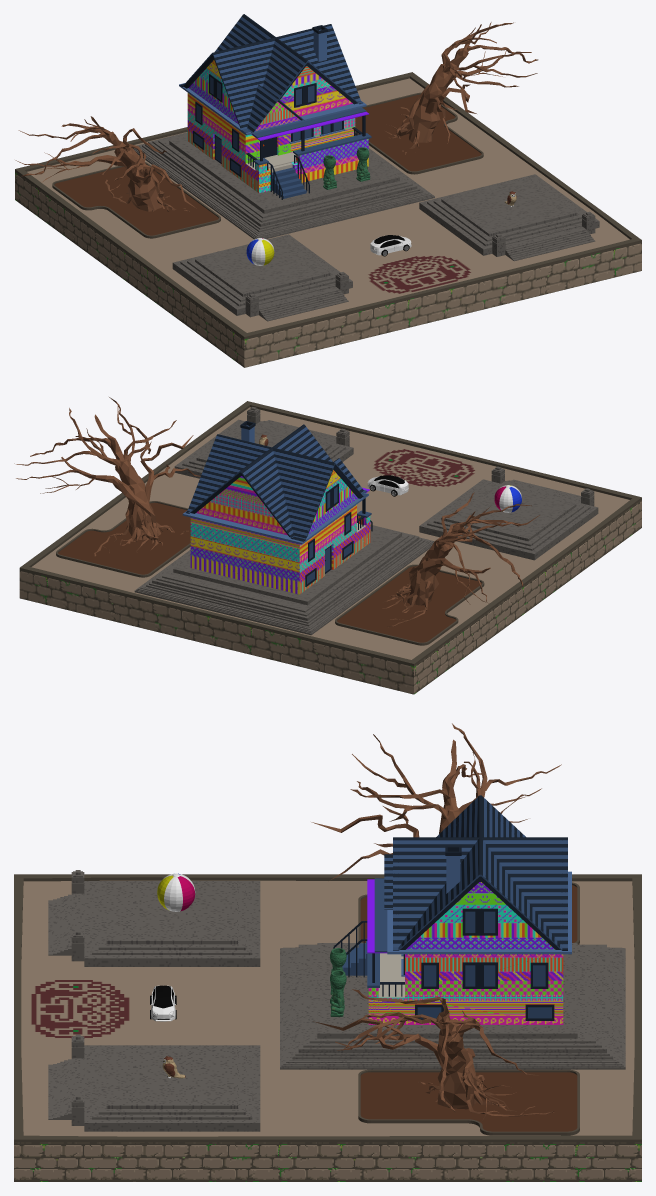
3 views of the same model, one above another, from view 1: azimuth 30°, elevation 25°; view 2: azimuth 150°, elevation 25°; view 3: azimuth 270°, elevation 25° (orthographic). The views are drawn at different scales.
Visible parts, largest first — view 1: Cube.011, Cube.676, VEHICLES_TESLA, OBJRANDOM_BEACHBALL; view 2: Cube.011, Cube.676, VEHICLES_TESLA, OBJRANDOM_BEACHBALL; view 3: Cube.011, Cube.676, OBJRANDOM_BEACHBALL, VEHICLES_TESLA.
Part boxes in pixels (x1,y1,x2,y2): Cube.011: [15, 22, 641, 367]; Cube.676: [179, 14, 371, 199]; VEHICLES_TESLA: [370, 235, 411, 256]; OBJRANDOM_BEACHBALL: [246, 238, 274, 265]; Cube.011: [14, 397, 641, 694]; Cube.676: [182, 421, 372, 594]; VEHICLES_TESLA: [367, 475, 408, 496]; OBJRANDOM_BEACHBALL: [494, 485, 521, 512]; Cube.011: [14, 723, 641, 1181]; Cube.676: [333, 795, 571, 1024]; OBJRANDOM_BEACHBALL: [157, 873, 195, 911]; VEHICLES_TESLA: [150, 985, 176, 1021].
Size of the model in its own units: 5099 by 1812 by 4000.
Materials: 36 (9 with a texture image).
